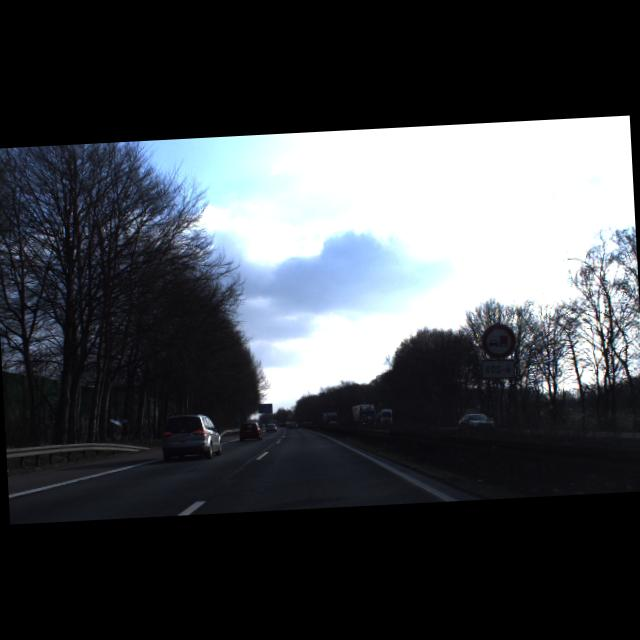prohibitory: (480, 322, 517, 359)
